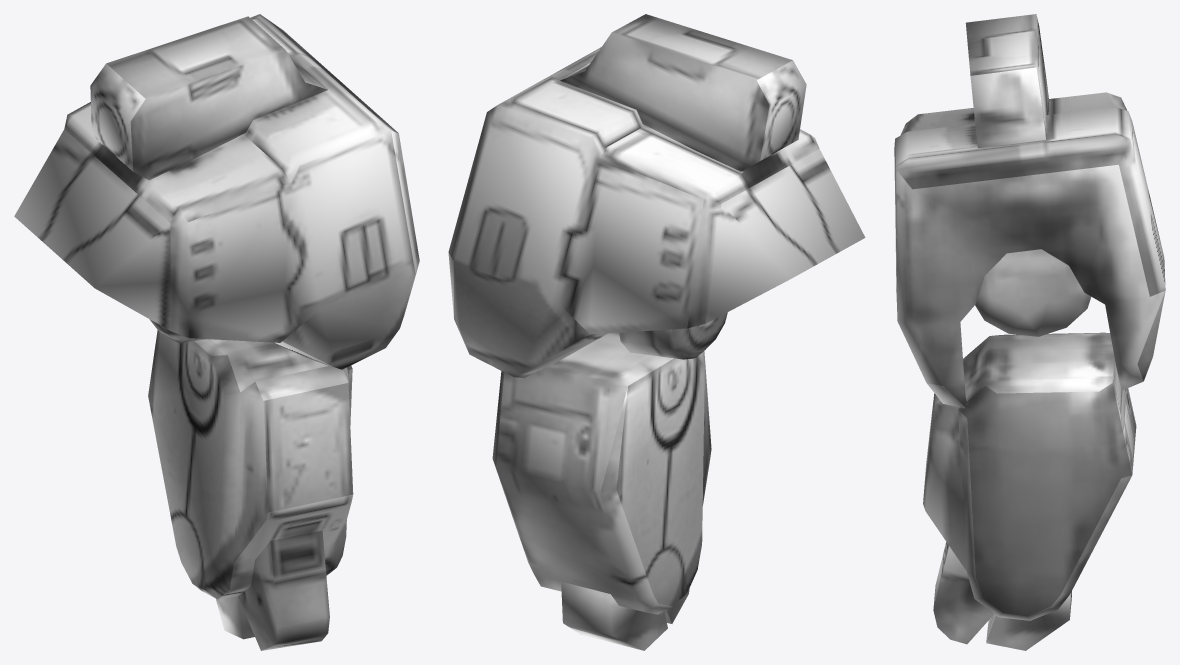
Rendered from r_upper.glb.
The picture shows the model from 3 angles, left to right: view 1: azimuth 30°, elevation 25°; view 2: azimuth 150°, elevation 25°; view 3: azimuth 270°, elevation 25°; orthographic projection. The views are drawn at different scales.
Visible parts, largest first — view 1: r_upper; view 2: r_upper; view 3: r_upper.
Part boxes in pixels (x1,y1,x2,y2): r_upper: (14,14,419,650); r_upper: (448,14,865,650); r_upper: (894,14,1165,650).
Bounding box in the file's own units: 1.51 × 2.81 × 1.22.
3 materials, 3 textured.
